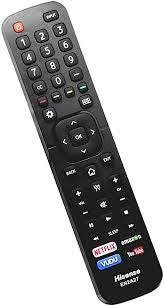remote control: (3, 4, 164, 305)
